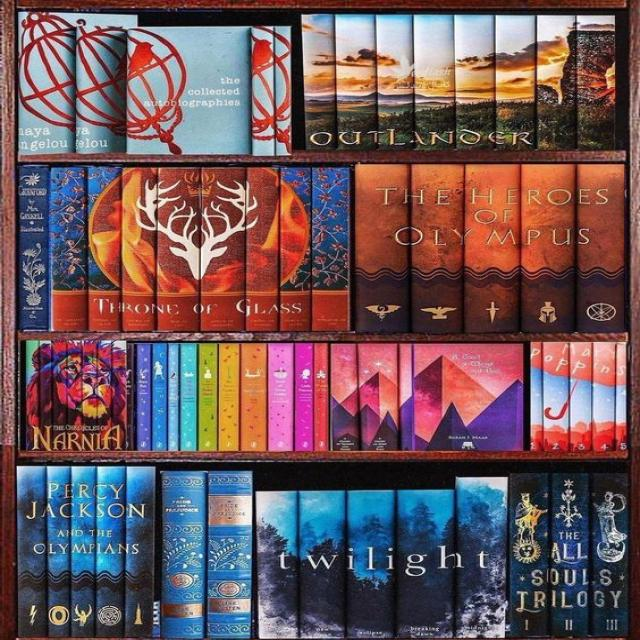book: (410, 164, 463, 333), (520, 164, 573, 332), (466, 165, 519, 333), (356, 165, 408, 332), (396, 490, 454, 638), (456, 477, 507, 638), (577, 165, 625, 332), (200, 168, 247, 331), (208, 471, 252, 638), (347, 491, 395, 638), (298, 491, 346, 638), (162, 471, 203, 640), (157, 168, 199, 330), (254, 491, 299, 638), (509, 473, 548, 638), (551, 474, 589, 636), (50, 167, 87, 332), (591, 474, 627, 636), (312, 168, 347, 332), (335, 14, 376, 150), (495, 15, 535, 150), (414, 15, 454, 150), (247, 167, 279, 332), (576, 14, 615, 149), (123, 167, 155, 331), (88, 168, 120, 332), (536, 16, 575, 150), (455, 15, 493, 148), (280, 167, 310, 332), (376, 15, 412, 149), (18, 466, 46, 637), (19, 165, 48, 330), (126, 467, 153, 638), (97, 466, 123, 638), (70, 467, 96, 637), (357, 344, 397, 451), (303, 15, 334, 150), (47, 467, 70, 637), (251, 27, 275, 155), (330, 344, 357, 450), (543, 343, 569, 451), (267, 343, 293, 451), (240, 343, 266, 451), (570, 342, 593, 451), (594, 342, 616, 451), (218, 344, 239, 451), (275, 26, 292, 155), (295, 343, 313, 451), (199, 344, 217, 451), (180, 344, 198, 451), (112, 341, 128, 450), (81, 341, 97, 450), (136, 344, 152, 451), (52, 340, 67, 450), (67, 341, 82, 450), (314, 342, 329, 450), (152, 343, 167, 451), (96, 340, 110, 451), (26, 341, 40, 450), (530, 342, 542, 450), (40, 341, 51, 450), (168, 343, 179, 451), (616, 345, 626, 450)
